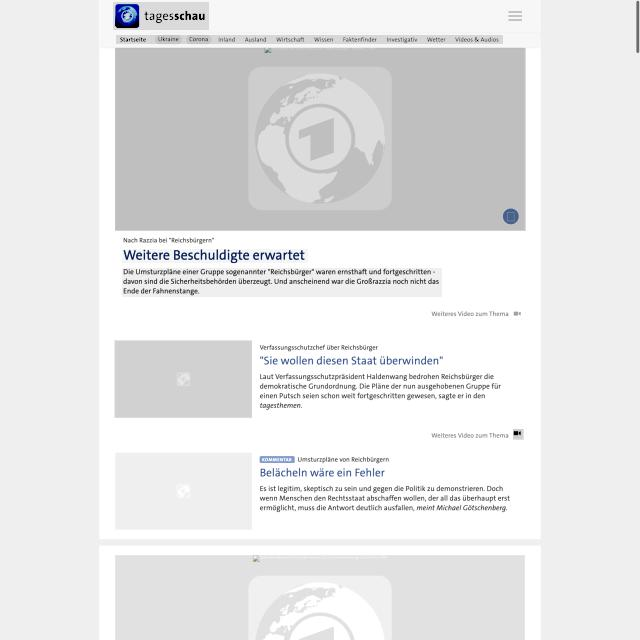Input field: (122, 268, 442, 297)
RadioButton: (260, 455, 294, 464)
bag: (100, 0, 541, 48)
card: (115, 48, 526, 231)
carousel: (507, 10, 523, 22), (514, 429, 526, 442), (514, 307, 526, 319)
copy: (115, 340, 252, 418), (115, 452, 252, 530)
date picker: (113, 2, 209, 30)
decoration: (116, 35, 503, 44), (502, 7, 526, 24)
image: (122, 249, 308, 263)
